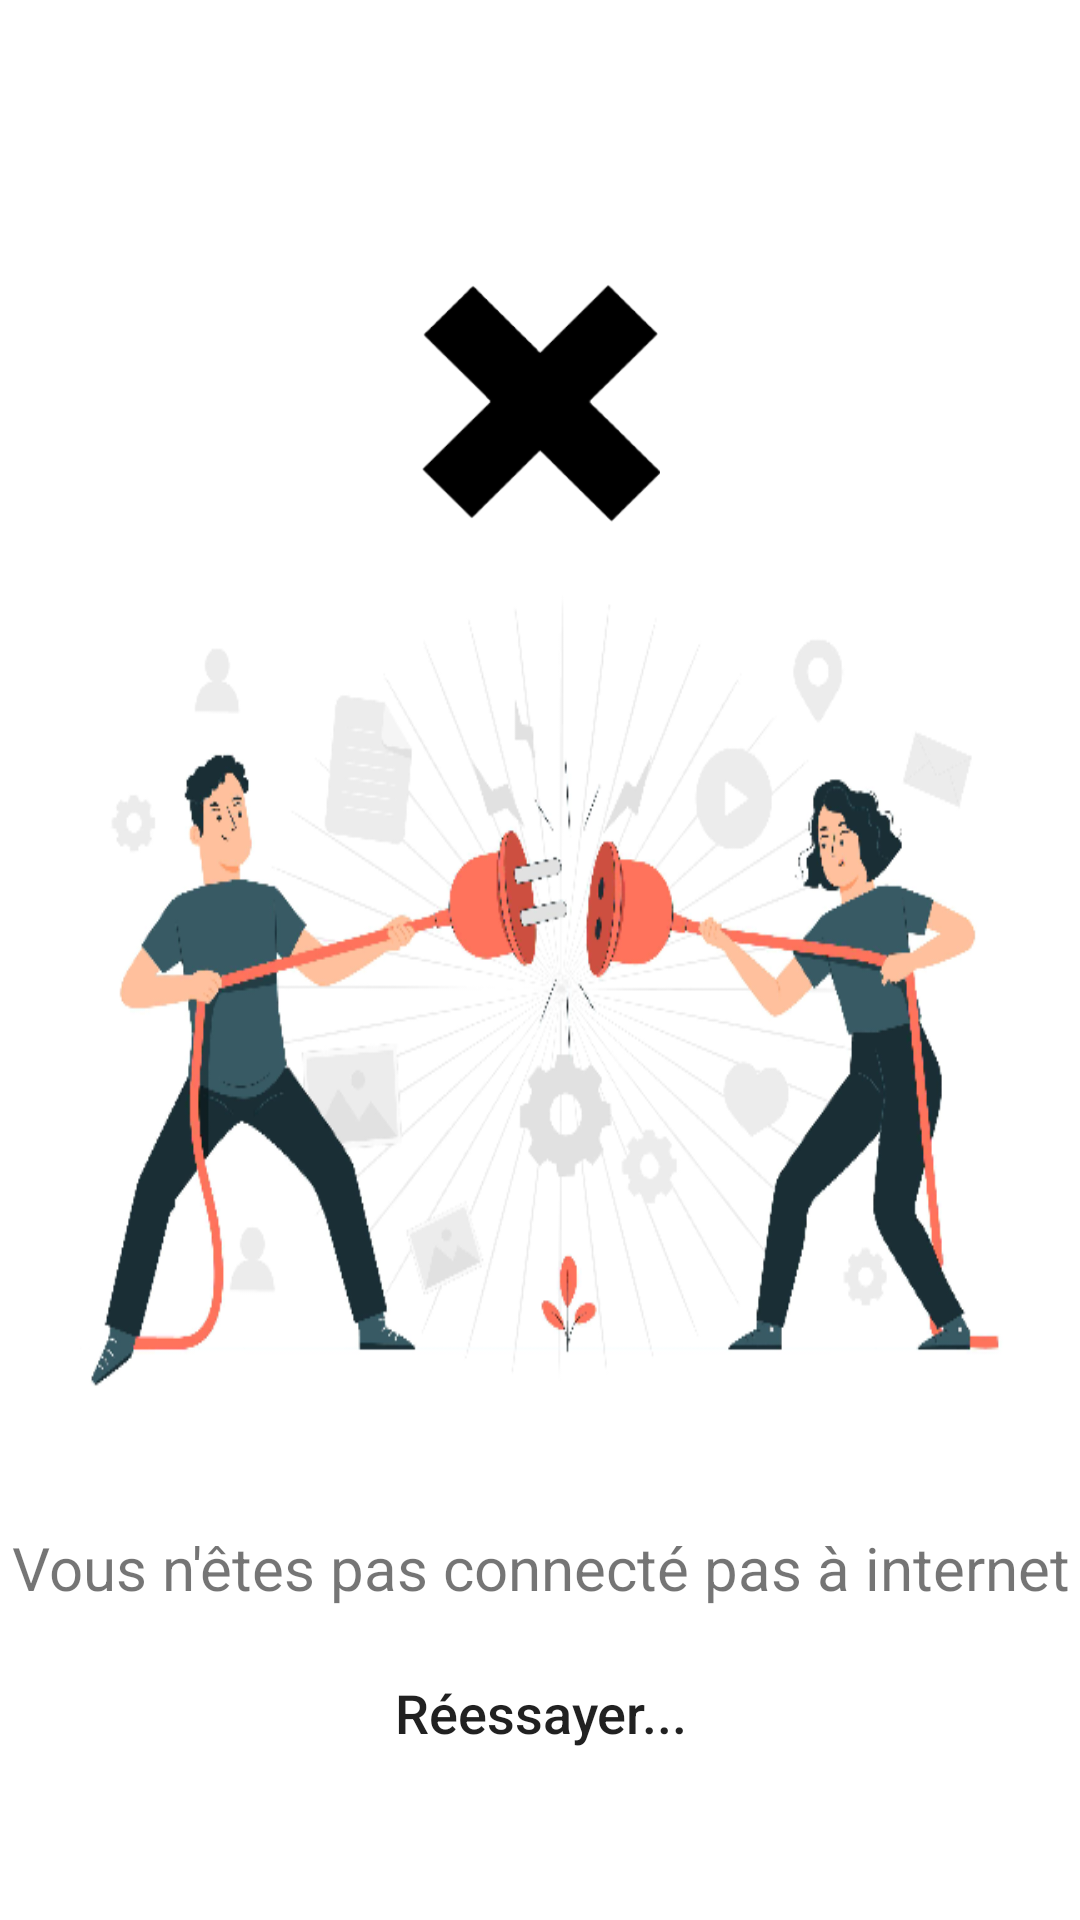

Icons on this 1080w x 1920h Android screen, each with the point to tap as (x=x, y=y):
cancel: (x=541, y=403)
